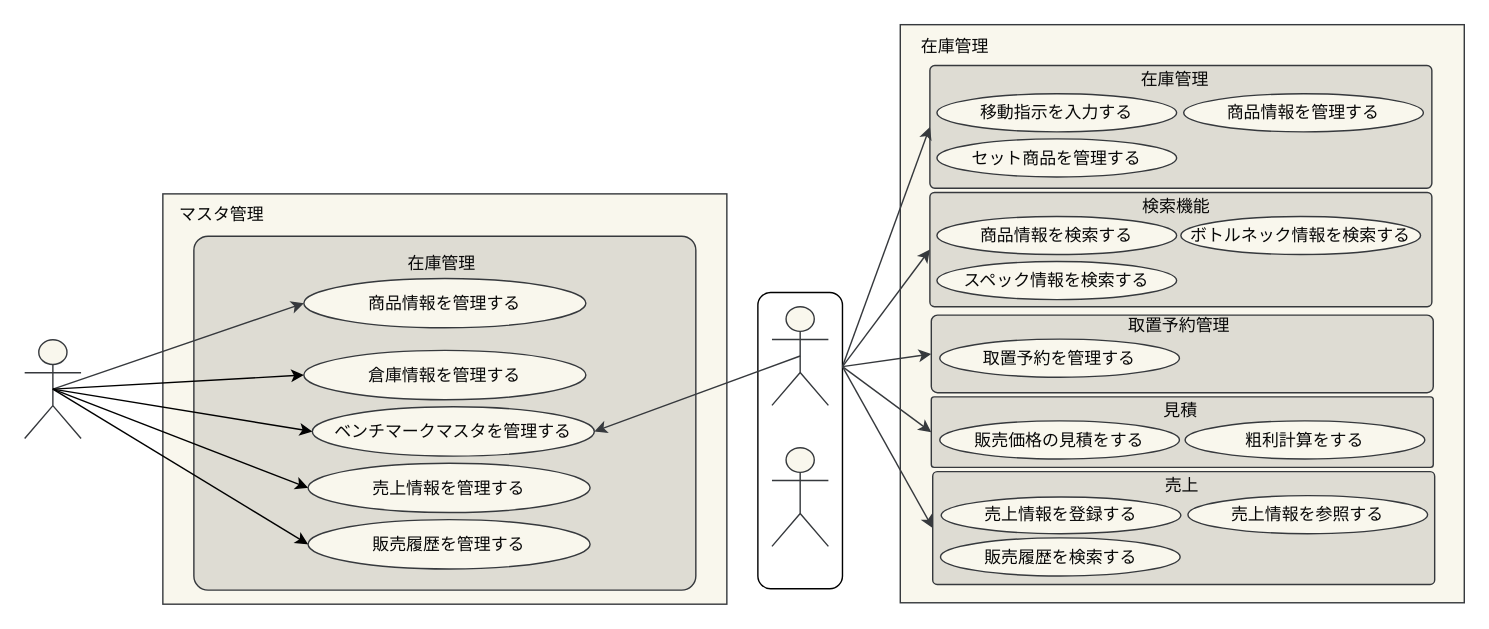
Image size: 1489x629. Some labels were removed from this diagram. Here are the shapes that lost their labels. From the top down, the centre of each, then its label:
At (799,355): "正規社員".
At (52,388): "管理者".
At (799,496): "非正規社員".
